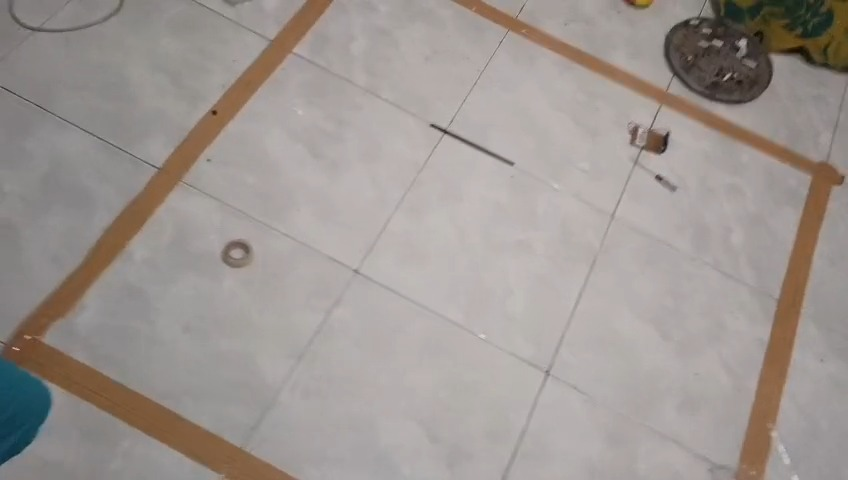floor marking: (454, 0, 842, 479), (0, 0, 332, 479)
